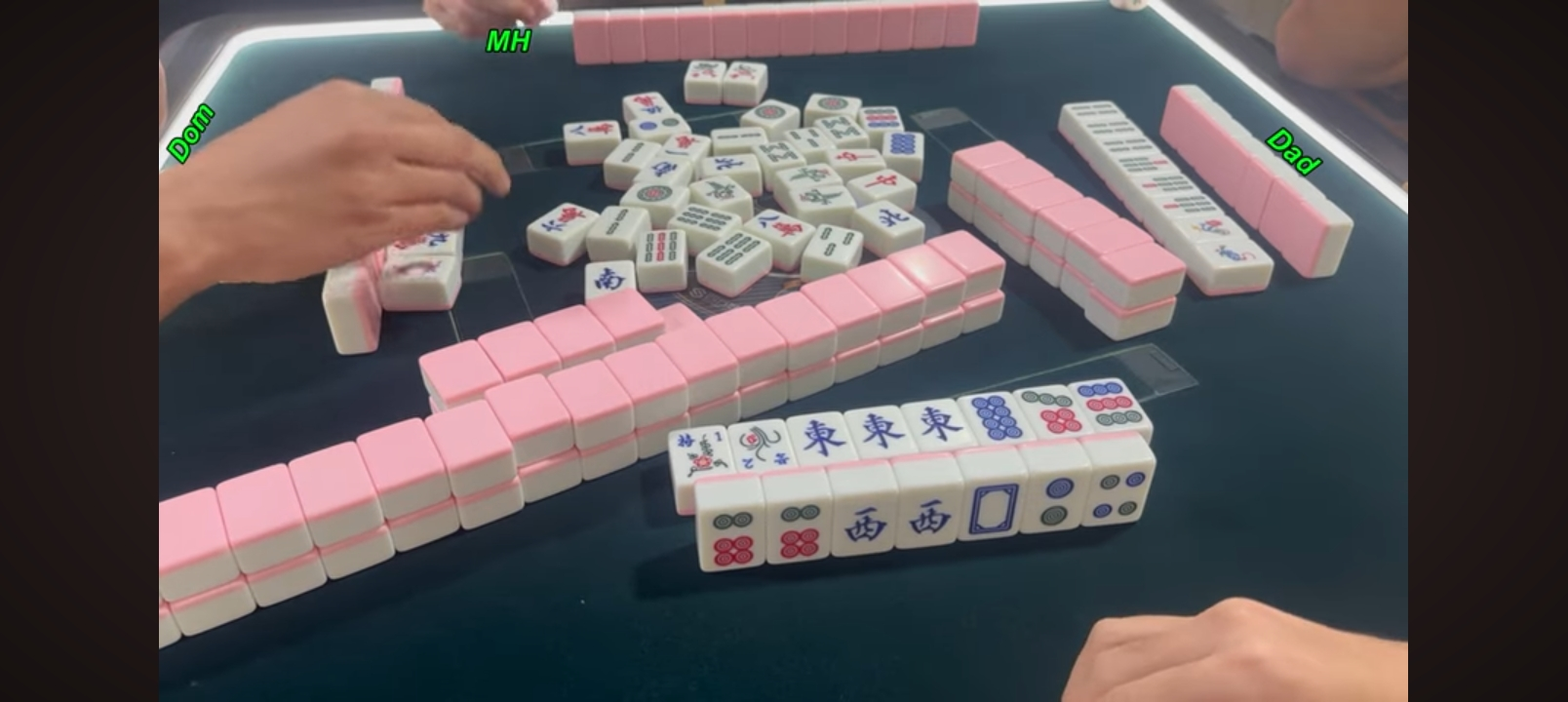TILE: (697, 506, 764, 571), (960, 480, 1030, 540), (831, 492, 897, 555), (764, 501, 831, 561), (897, 487, 962, 547), (1090, 466, 1152, 525), (1026, 473, 1088, 531), (666, 425, 732, 479), (731, 421, 795, 473), (1080, 379, 1144, 430), (1019, 387, 1085, 436), (793, 412, 851, 467), (851, 408, 916, 455), (965, 394, 1023, 444), (908, 401, 967, 448)
